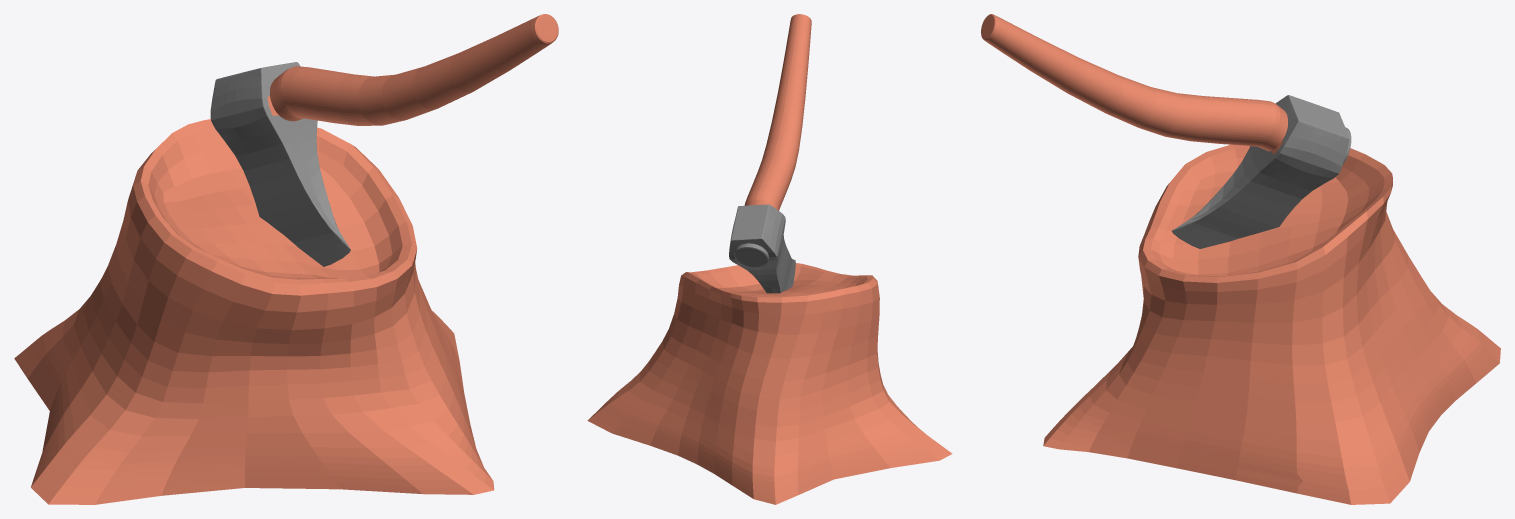
The model's file is StumpAxe.fbx.
The picture shows the model from 3 angles, left to right: view 1: azimuth 30°, elevation 25°; view 2: azimuth 150°, elevation 25°; view 3: azimuth 270°, elevation 25°; orthographic projection. The views are drawn at different scales.
Parts seen in each view (by area): view 1: stump_1, axe_1; view 2: stump_1, axe_1; view 3: stump_1, axe_1.
Part boxes in pixels (left/top/right/bottom): stump_1: left=14, top=119, right=494, bottom=504; axe_1: left=210, top=14, right=558, bottom=266; stump_1: left=587, top=263, right=952, bottom=504; axe_1: left=729, top=14, right=811, bottom=293; stump_1: left=1043, top=144, right=1500, bottom=504; axe_1: left=981, top=14, right=1351, bottom=248.
Size of the model in its own units: 194 by 194 by 205.
